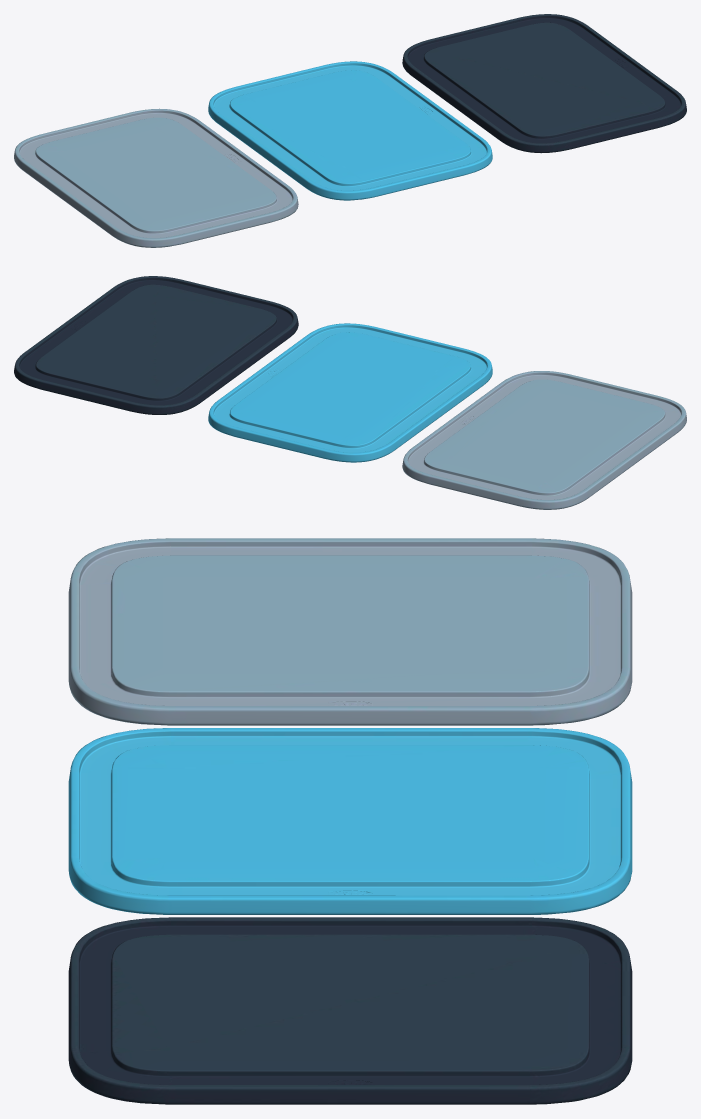
File: ikea_365_deska_do_krojenia_40613026.glb
3 views of the same model, one above another, from view 1: azimuth 30°, elevation 25°; view 2: azimuth 150°, elevation 25°; view 3: azimuth 270°, elevation 25° (orthographic). The views are drawn at different scales.
Visible parts, largest first — view 1: ikea_365_deska_do_krojenia_40613026; view 2: ikea_365_deska_do_krojenia_40613026; view 3: ikea_365_deska_do_krojenia_40613026.
Part boxes in pixels (<box>): ikea_365_deska_do_krojenia_40613026: <box>14,14,686,247</box>; ikea_365_deska_do_krojenia_40613026: <box>14,276,686,509</box>; ikea_365_deska_do_krojenia_40613026: <box>68,538,632,1104</box>.
Size of the model in its own units: 0.51 by 0.007 by 0.22.
Materials: 3 (3 with a texture image).
